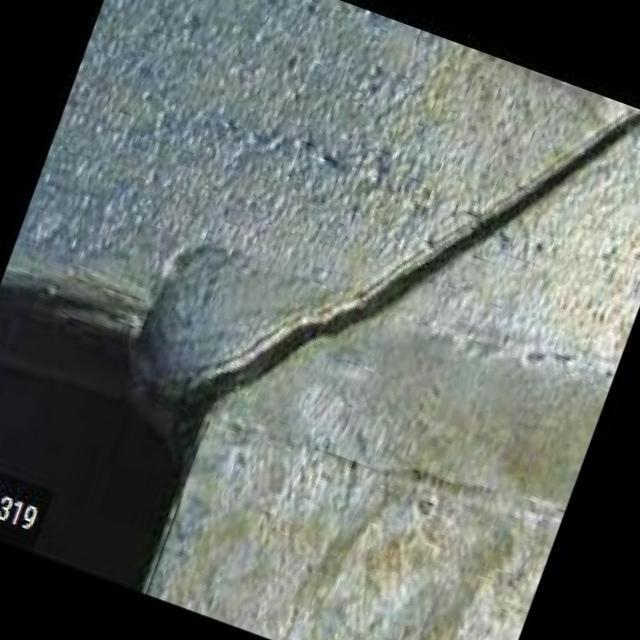defect: (185, 108, 640, 419)
